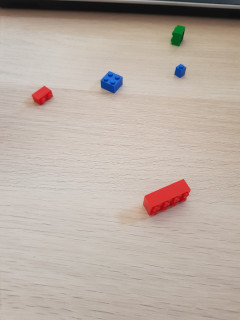1x1 blue: (174, 64, 186, 79)
1x2 red: (31, 85, 54, 105)
2x2 blue: (100, 71, 123, 93)
2x2 green: (170, 24, 186, 48)
2x4 red: (144, 179, 192, 217)
